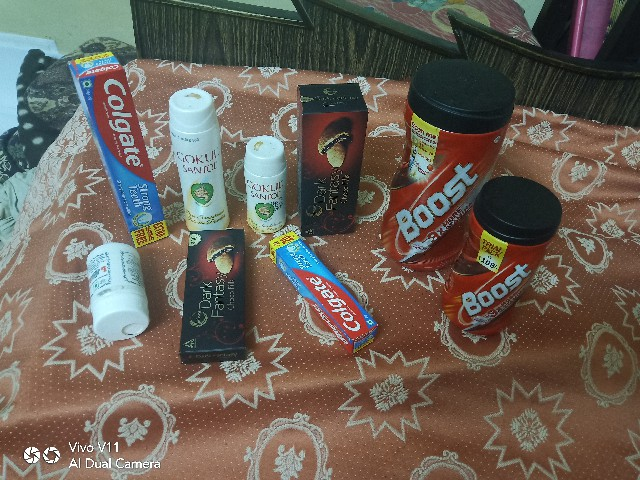boost big: (371, 43, 513, 281)
boost small: (439, 172, 577, 377)
colgatetoothpaste big: (63, 36, 166, 247)
colgatetoothpaste small: (266, 221, 385, 388)
darkfantasy big: (294, 72, 372, 234)
darkfantasy small: (178, 228, 253, 380)
gokulsantol big: (159, 62, 228, 230)
gokulsantol small: (236, 131, 290, 231)
lgasafoetidapowder small: (76, 233, 150, 344)
